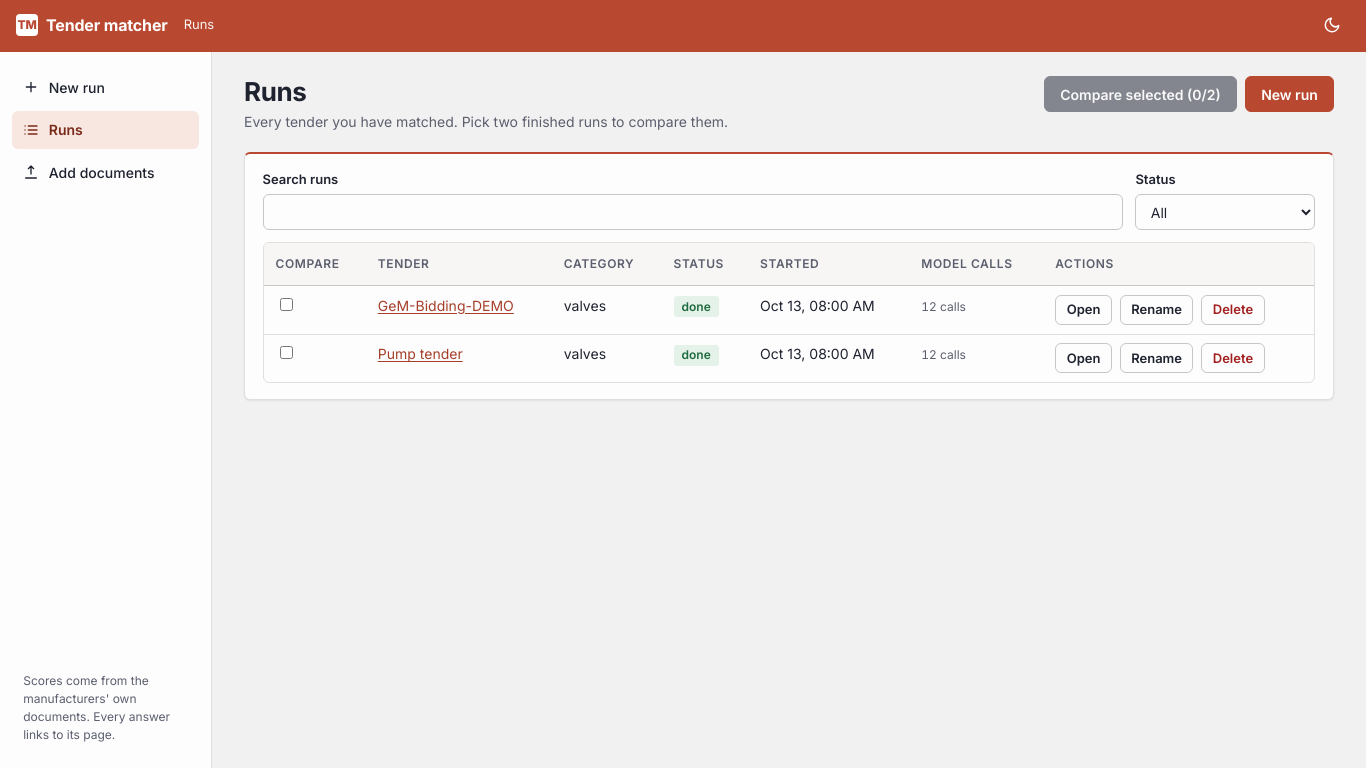
Test: the other pages › lists, searches and compares runs
Expected: the link "Pump tender" is shown, x1=378 y1=346 x2=463 y2=362
Type "pump" into the search field labelled "Search runs" at x=693, y=212, box x1=263 y1=194 x2=1123 y2=230
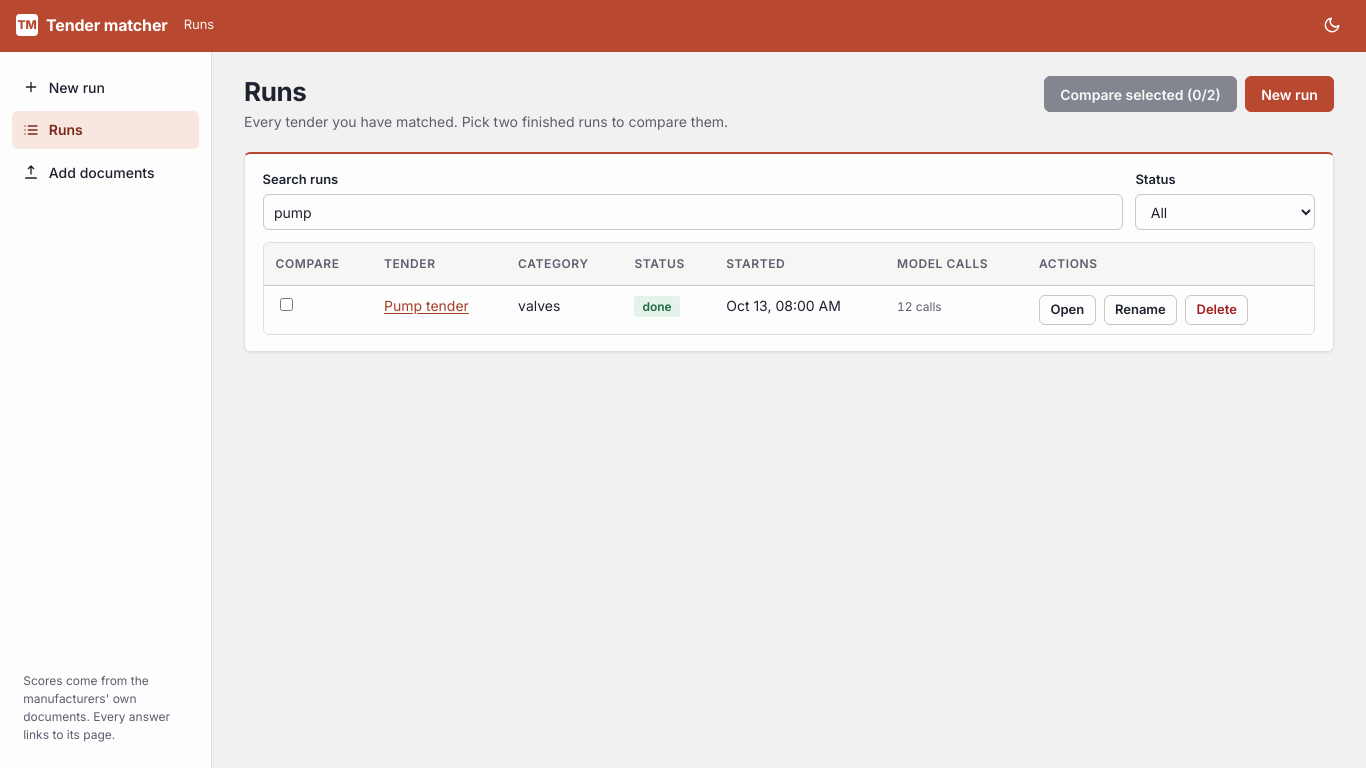
Expected: the link "GeM-Bidding-DEMO" is gone
